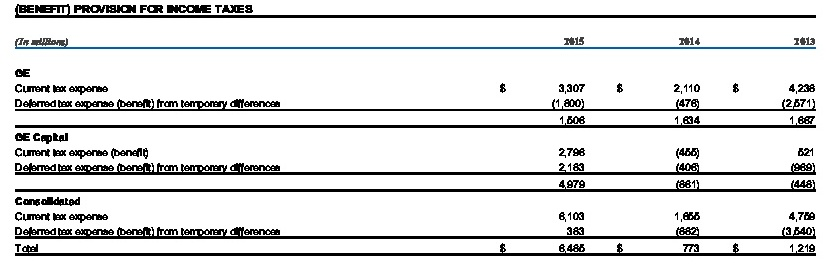table: (0, 0, 831, 272)
